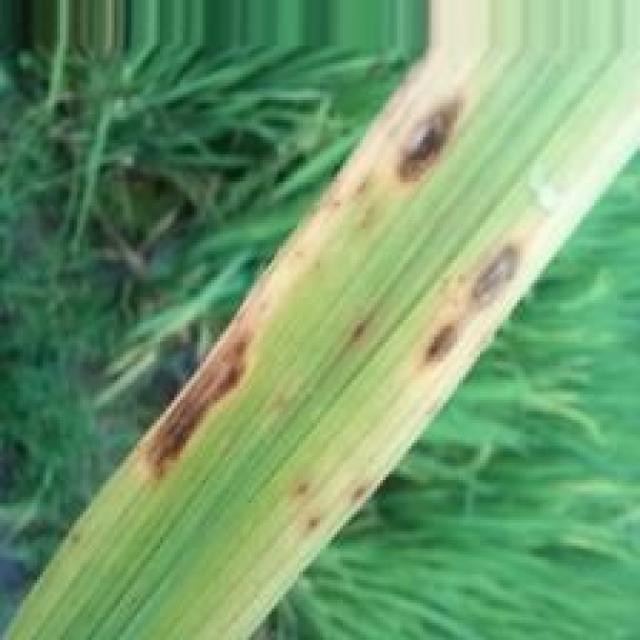Rice Tungro: (137, 307, 264, 494), (392, 84, 478, 187), (461, 234, 527, 316), (416, 315, 467, 371)
